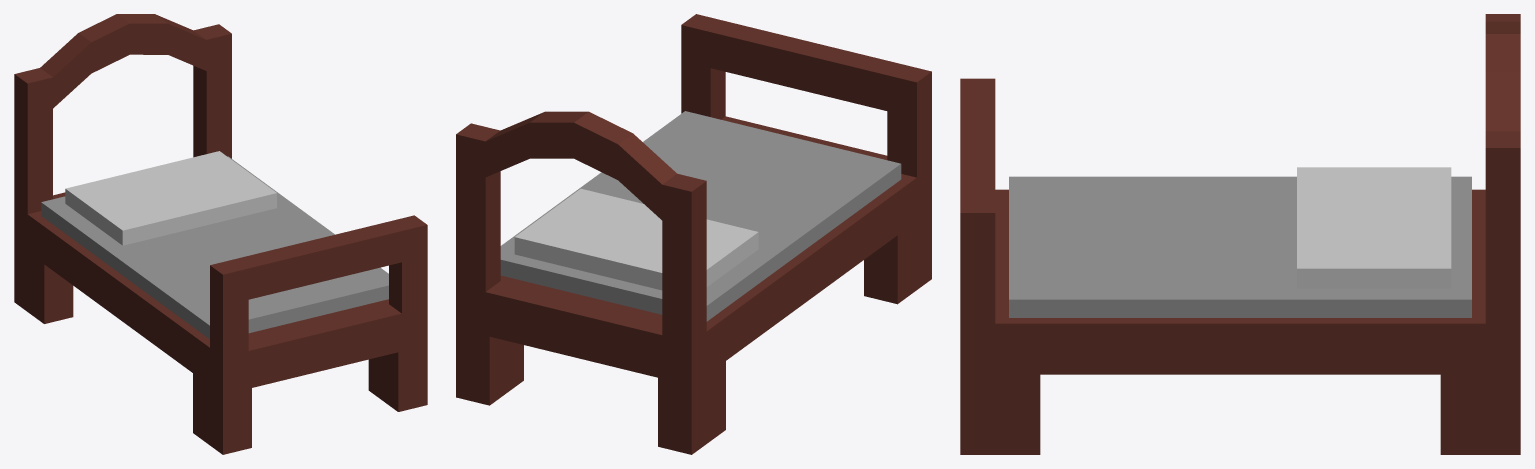
Rendered from bed.fbx.
3 renders of one model, left to right at view 1: azimuth 30°, elevation 25°; view 2: azimuth 150°, elevation 25°; view 3: azimuth 270°, elevation 25°, orthographic. The views are drawn at different scales.
Parts seen in each view (by area): view 1: bed; view 2: bed; view 3: bed.
Part boxes in pixels (x1,y1,x2,y2): bed: (14, 14, 427, 454); bed: (456, 14, 931, 454); bed: (960, 14, 1520, 454).
Bounding box in the file's own units: 4.11 × 7.26 × 5.06.
